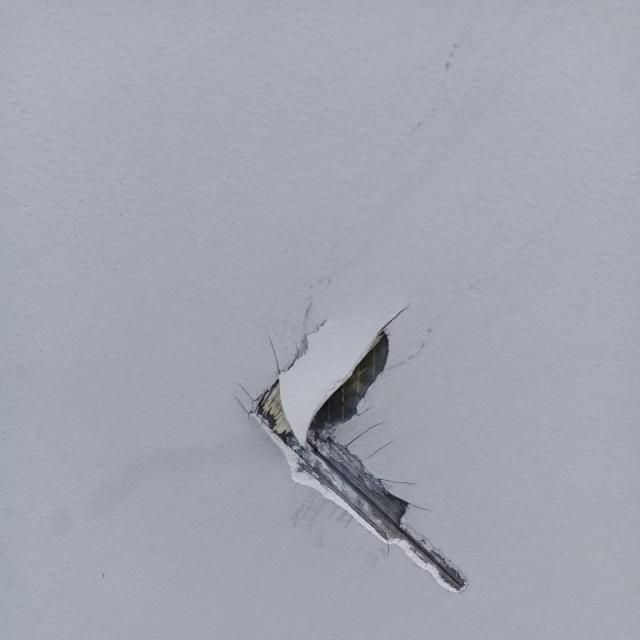crack: (241, 302, 466, 582)
